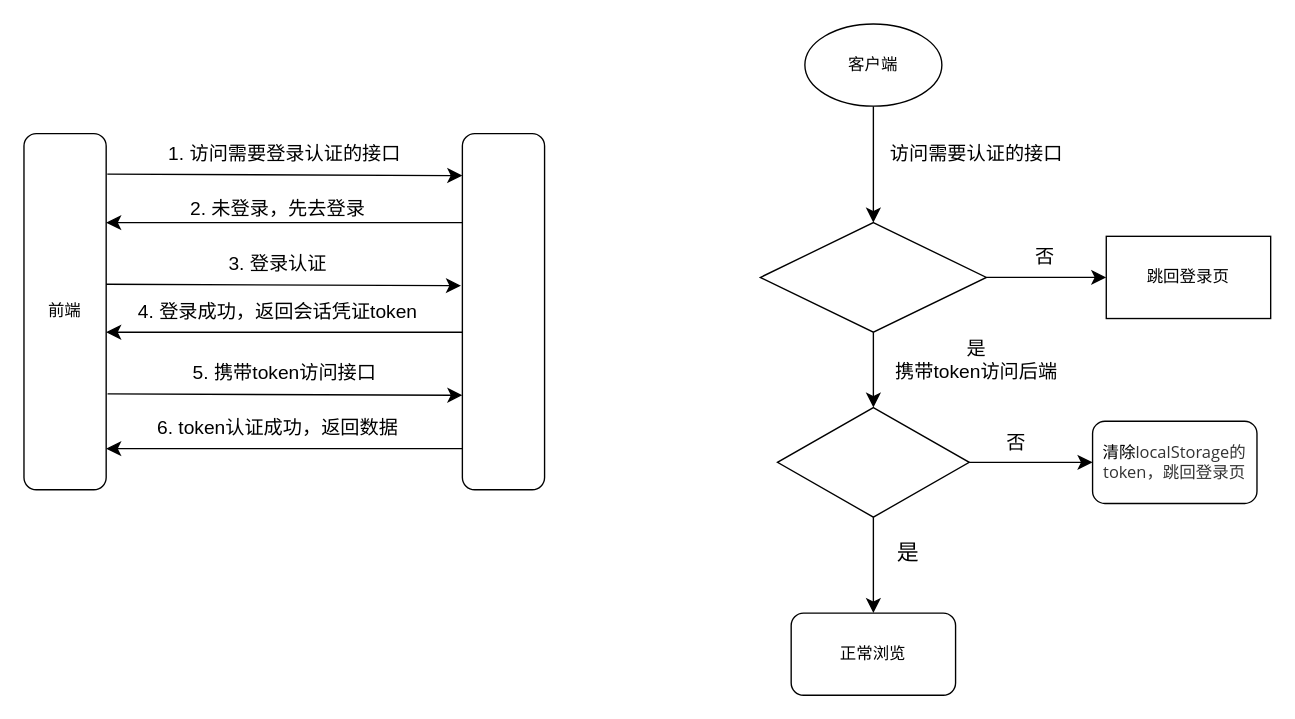
The diagram is 1295 pixels wide and 719 high, and some of its shapes have lost their labels. Here are the shapes that lost their labels. From the top down, the centre of each, then its label:
At [872,276]: "检查 localStorage 是否有token".
At [503,311]: "后端".
At [872,461]: "后端验证 token是否通过".
